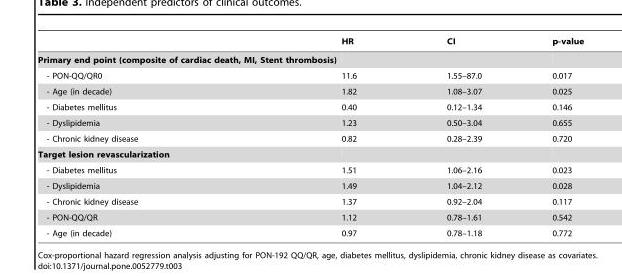table: (37, 36, 583, 237)
table column: (37, 36, 338, 237), (401, 36, 516, 237), (516, 36, 583, 237), (338, 36, 401, 237)
table column header: (37, 36, 583, 50)
table projected row header: (37, 50, 583, 67), (37, 146, 583, 162)
table row: (37, 50, 583, 67), (37, 67, 583, 83), (37, 83, 583, 99), (37, 114, 583, 130), (37, 130, 583, 146), (37, 146, 583, 162), (37, 177, 583, 193), (37, 193, 583, 209), (37, 209, 583, 225), (37, 99, 583, 114), (37, 162, 583, 177), (37, 36, 583, 50), (37, 225, 583, 237)
